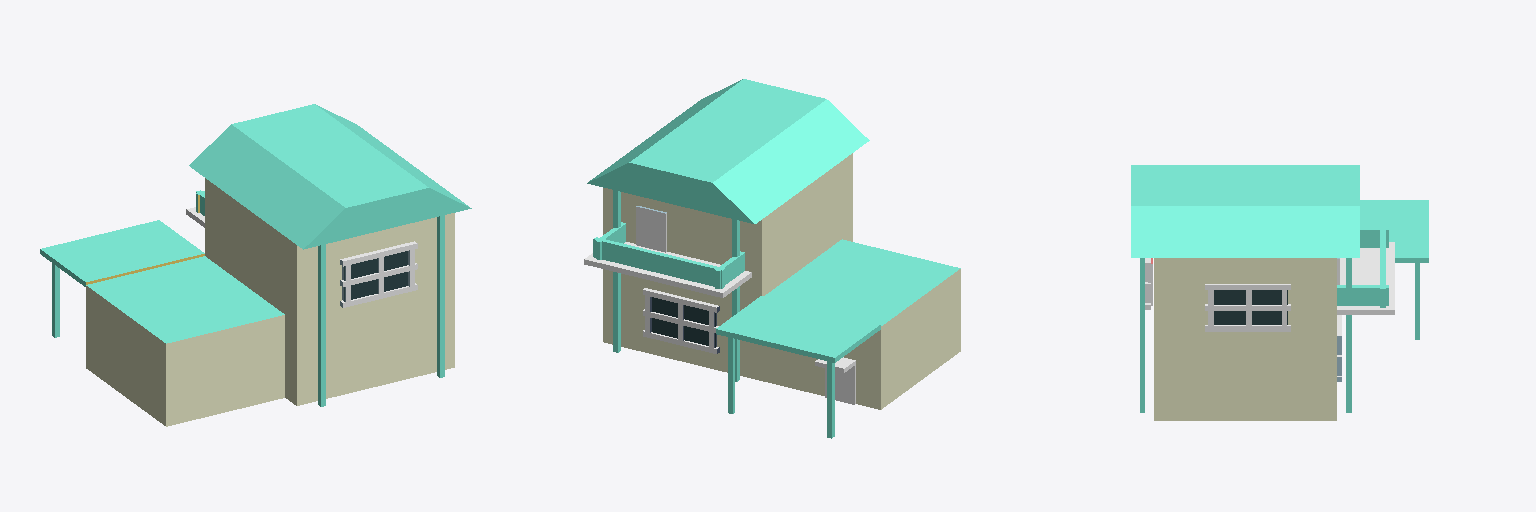
The picture shows the model from 3 angles: view 1: azimuth 30°, elevation 25°; view 2: azimuth 150°, elevation 25°; view 3: azimuth 270°, elevation 25°; orthographic projection.
Parts seen in each view (by area): view 1: cuboid; view 2: cuboid; view 3: cuboid.
Part boxes in pixels (bbox=[...]): cuboid: bbox=[40, 104, 471, 426]; cuboid: bbox=[584, 79, 960, 438]; cuboid: bbox=[1131, 165, 1428, 420].
Bounding box in the file's own units: 1.78 × 1.19 × 1.62.
1 materials, 1 textured.